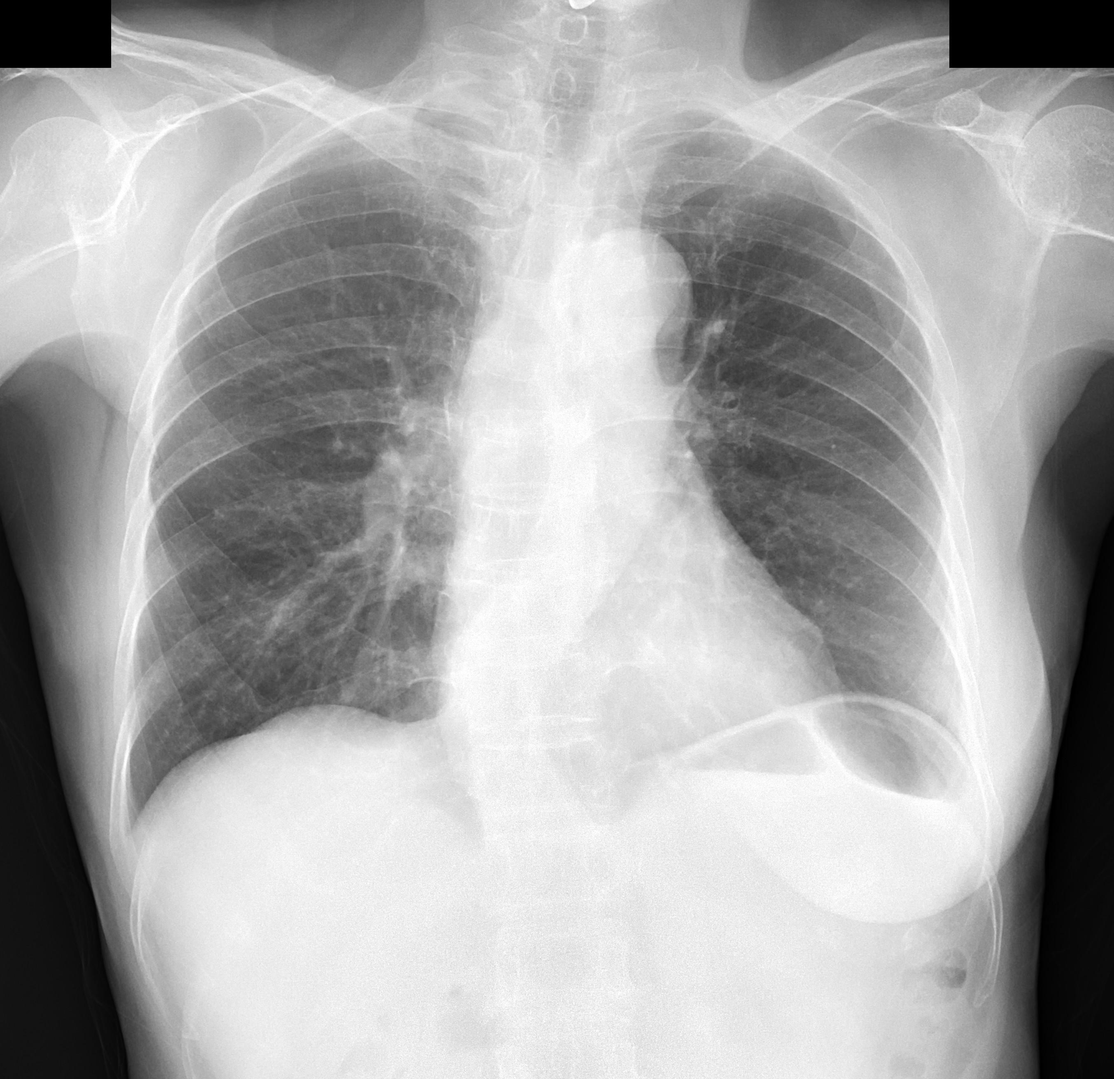Aortic enlargement: (563, 230, 688, 380)
